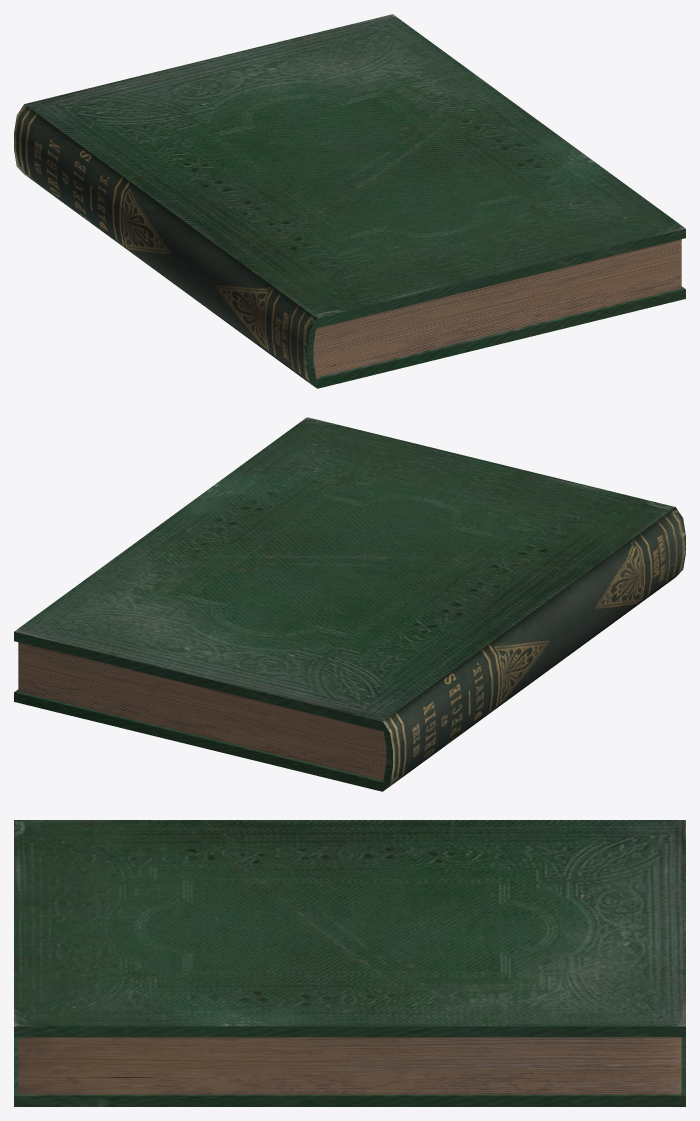
The model's file is OnOrginofSpecies.fbx.
3 renders of one model, top to bottom at view 1: azimuth 30°, elevation 25°; view 2: azimuth 150°, elevation 25°; view 3: azimuth 270°, elevation 25°, orthographic. The views are drawn at different scales.
Parts seen in each view (by area): view 1: Cube; view 2: Cube; view 3: Cube.
Boxes of the visible parts, x1,y1,x2,y2 form: Cube: [14, 14, 685, 388]; Cube: [14, 417, 685, 791]; Cube: [14, 820, 685, 1106].
Size of the model in its own units: 20.15 by 3.57 by 27.
